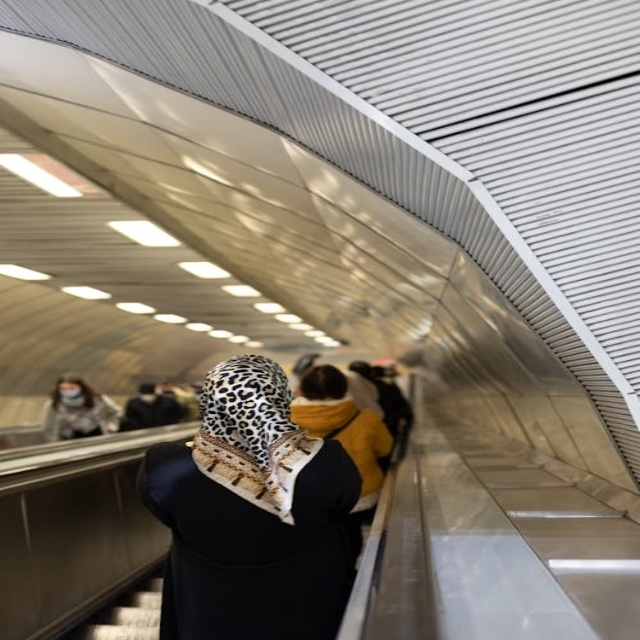Mascara: (60, 389, 83, 400), (140, 394, 156, 403)
